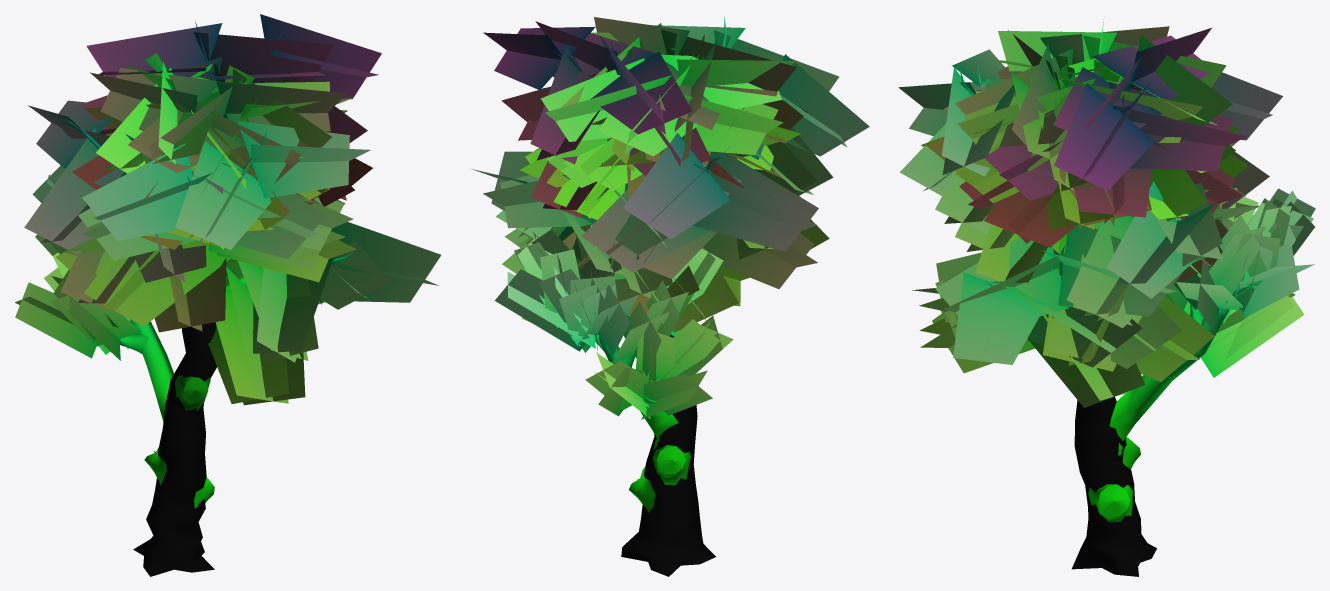
File: M_Realistic7_4.fbx
3 views of the same model, side by side, from view 1: azimuth 30°, elevation 25°; view 2: azimuth 150°, elevation 25°; view 3: azimuth 270°, elevation 25° (orthographic). The views are drawn at different scales.
Parts seen in each view (by area): view 1: Tree_4; view 2: Tree_4; view 3: Tree_4.
Boxes of the visible parts, bbox=[...] form: Tree_4: bbox=[15, 14, 440, 576]; Tree_4: bbox=[471, 16, 869, 576]; Tree_4: bbox=[898, 19, 1315, 576].
Size of the model in its own units: 1095 by 1528 by 1070.
